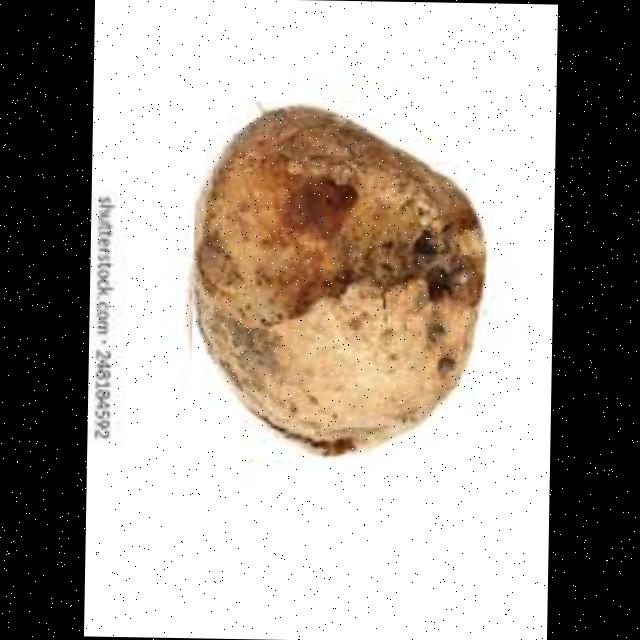Damaged potato: (188, 100, 494, 463)
